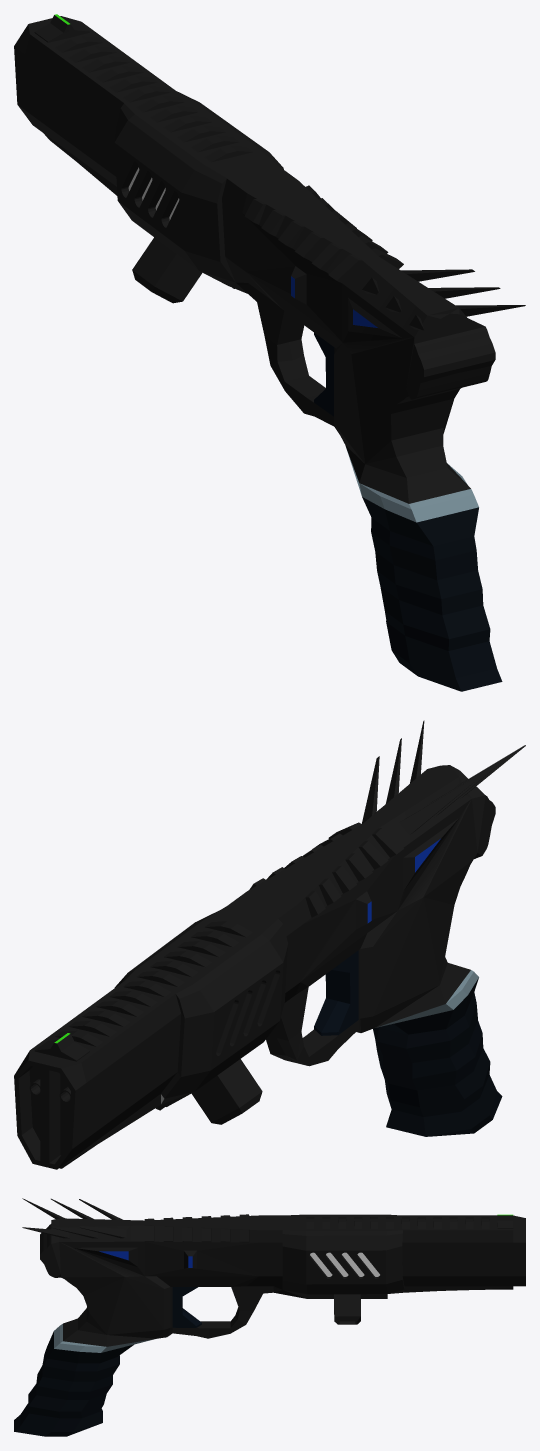
File: Plasma_Gun_mk_2.fbx
The picture shows the model from 3 angles, top to bottom: view 1: azimuth 30°, elevation 25°; view 2: azimuth 150°, elevation 25°; view 3: azimuth 270°, elevation 25°; orthographic projection. The views are drawn at different scales.
Visible parts, largest first — view 1: Pistol_Mk_2; view 2: Pistol_Mk_2; view 3: Pistol_Mk_2.
Boxes of the visible parts, x1,y1,x2,y2 form: Pistol_Mk_2: [14, 14, 525, 691]; Pistol_Mk_2: [14, 720, 525, 1169]; Pistol_Mk_2: [14, 1198, 525, 1436].
Bounding box in the file's own units: 29.97 × 4.28 × 13.84.
